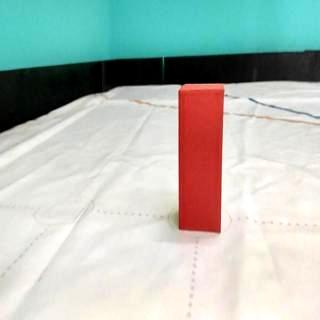redbox: (178, 85, 221, 232)
